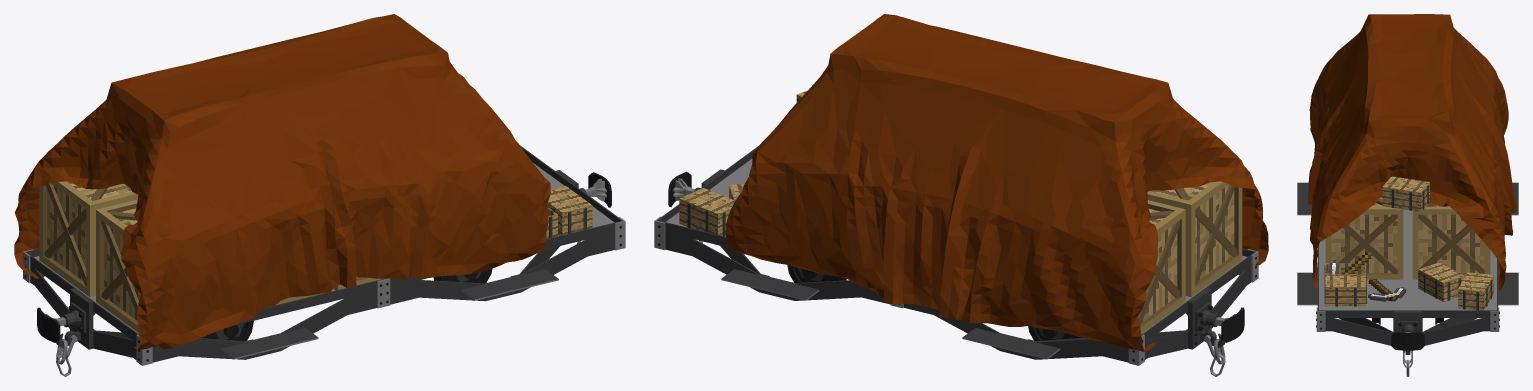
Rendered from mcgcargo.obj.
The picture shows the model from 3 angles, left to right: view 1: azimuth 30°, elevation 25°; view 2: azimuth 150°, elevation 25°; view 3: azimuth 270°, elevation 25°; orthographic projection. The views are drawn at different scales.
Visible parts, largest first — view 1: CARGO_FILL_98, FRAME, CARGO_FILL_48, CARGO_FILL_56, CARGO_FILL_91, COUPLER_FRONT, COUPLER_REAR; view 2: CARGO_FILL_98, FRAME, CARGO_FILL_56, CARGO_FILL_48, CARGO_FILL_63, COUPLER_FRONT, COUPLER_REAR; view 3: CARGO_FILL_98, FRAME, CARGO_FILL_8, CARGO_FILL_1, CARGO_FILL_63, CARGO_FILL_91, COUPLER_REAR.
Part boxes in pixels (<box>): CARGO_FILL_98: <box>14,14,550,349</box>; FRAME: <box>23,145,625,365</box>; CARGO_FILL_48: <box>39,181,138,297</box>; CARGO_FILL_56: <box>96,199,140,332</box>; CARGO_FILL_91: <box>546,186,592,238</box>; COUPLER_FRONT: <box>37,302,86,376</box>; COUPLER_REAR: <box>577,172,611,243</box>; CARGO_FILL_98: <box>725,14,1268,351</box>; FRAME: <box>654,146,1258,365</box>; CARGO_FILL_56: <box>1147,181,1242,297</box>; CARGO_FILL_48: <box>1138,200,1185,333</box>; CARGO_FILL_63: <box>679,90,807,236</box>; COUPLER_FRONT: <box>1195,302,1244,376</box>; COUPLER_REAR: <box>668,171,702,243</box>; CARGO_FILL_98: <box>1308,14,1517,290</box>; FRAME: <box>1297,182,1518,345</box>; CARGO_FILL_8: <box>1325,197,1403,279</box>; CARGO_FILL_1: <box>1412,203,1490,279</box>; CARGO_FILL_63: <box>1382,176,1493,310</box>; CARGO_FILL_91: <box>1324,252,1406,306</box>; COUPLER_REAR: <box>1391,321,1424,376</box>.
Size of the model in its own units: 6.23 by 2.74 by 2.77.
Materials: 1 (1 with a texture image).
